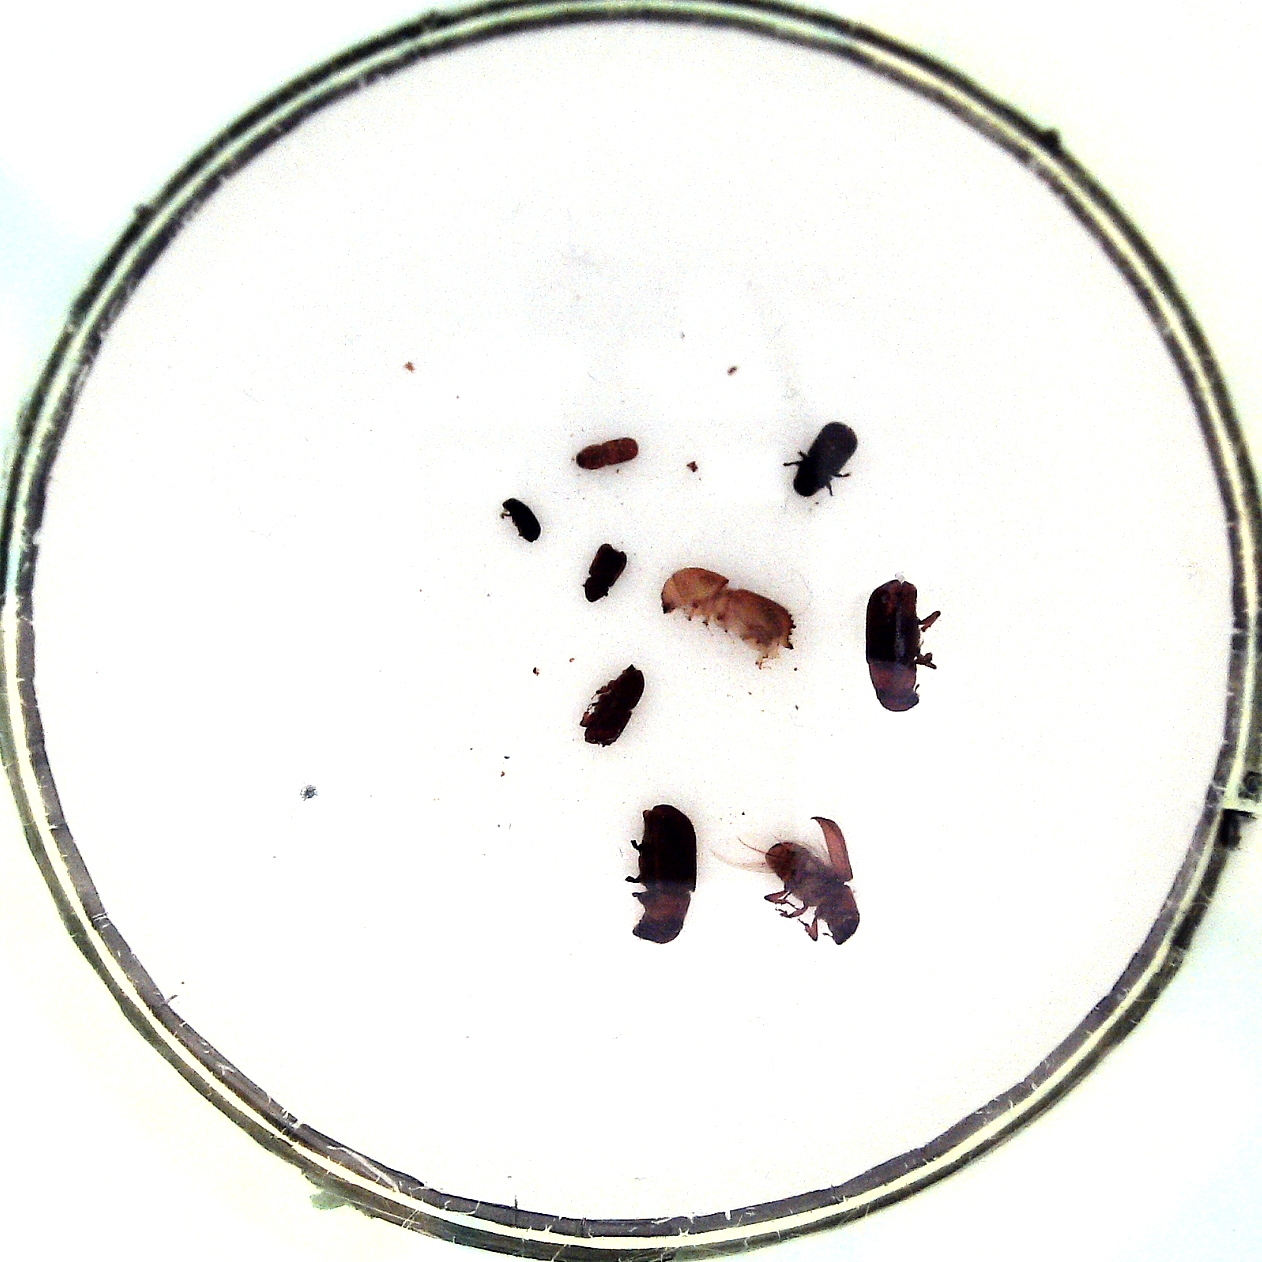Boerner: (661, 567, 797, 659)
Leconte: (765, 842, 860, 945), (632, 804, 697, 942), (866, 579, 921, 711)
acuminatus: (502, 498, 540, 542)
armandi: (792, 421, 858, 497)
coleoptera: (584, 543, 628, 602), (576, 437, 638, 470)
linnaeus: (584, 665, 645, 747)
